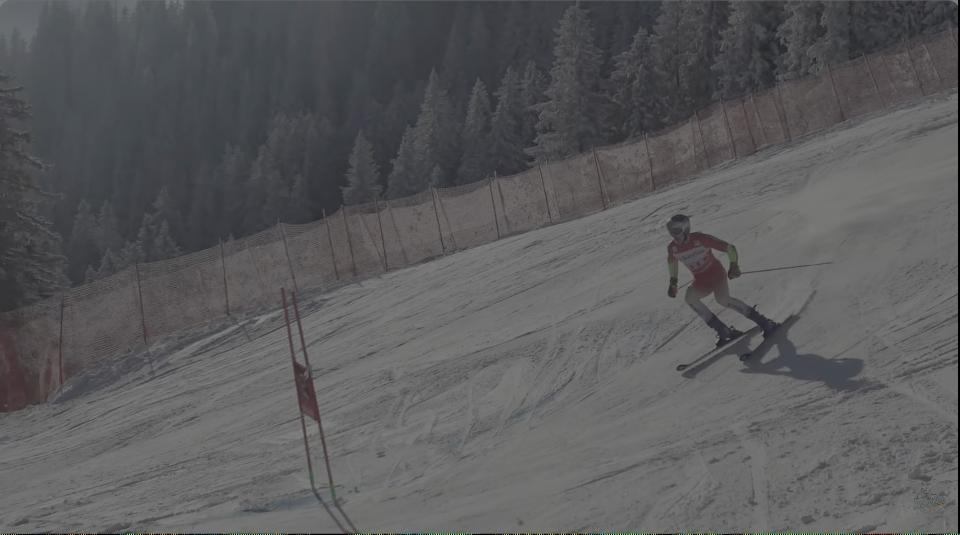gate: (264, 290, 350, 508)
